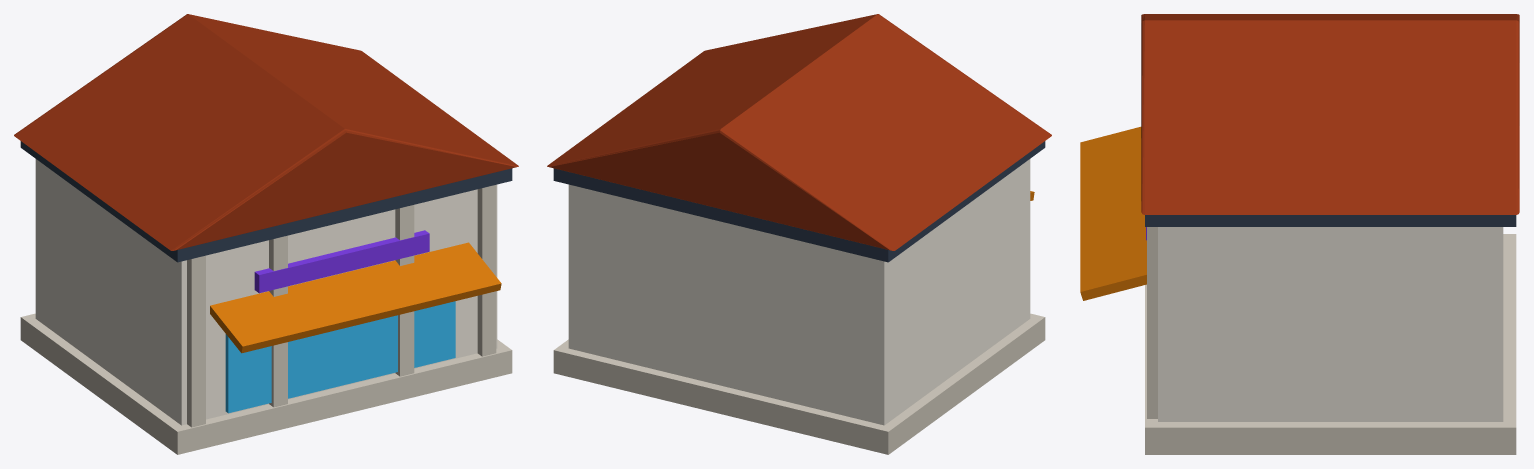
File: merchant_pavilion.glb
3 renders of one model, left to right at view 1: azimuth 30°, elevation 25°; view 2: azimuth 150°, elevation 25°; view 3: azimuth 270°, elevation 25°, orthographic. The views are drawn at different scales.
Visible parts, largest first — view 1: MerchantPavilion; view 2: MerchantPavilion; view 3: MerchantPavilion.
Boxes of the visible parts, x1,y1,x2,y2 form: MerchantPavilion: [14, 14, 518, 454]; MerchantPavilion: [547, 14, 1051, 454]; MerchantPavilion: [1080, 14, 1519, 454].
Size of the model in its own units: 11.02 by 8.64 by 10.18.
